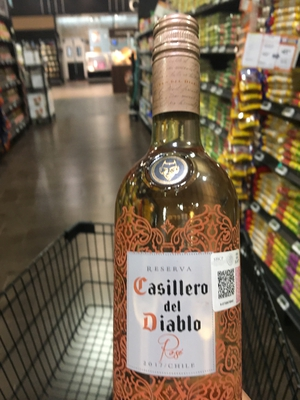casillero del diablo rose: (104, 20, 261, 400)
